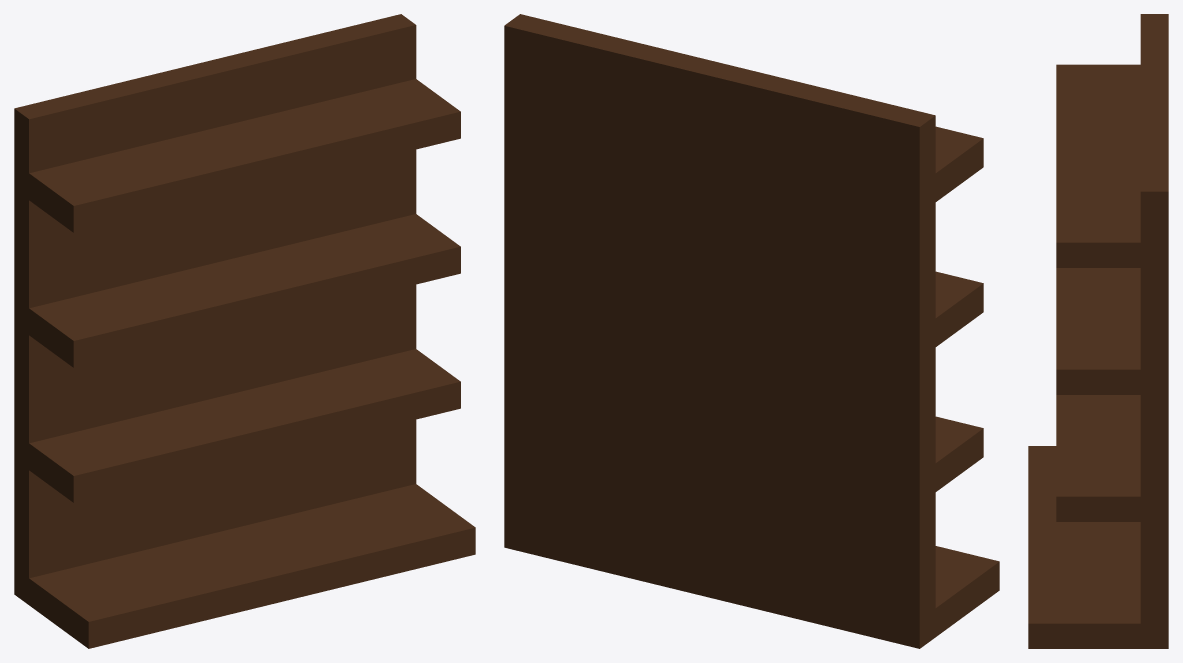
The model's file is wooden-shelf.glb.
3 views of the same model, side by side, from view 1: azimuth 30°, elevation 25°; view 2: azimuth 150°, elevation 25°; view 3: azimuth 270°, elevation 25° (orthographic). The views are drawn at different scales.
Parts seen in each view (by area): view 1: Untitled; view 2: Untitled; view 3: Untitled.
Boxes of the visible parts, <box> form: Untitled: <box>14,14,475,648</box>; Untitled: <box>504,14,999,648</box>; Untitled: <box>1028,14,1168,648</box>.
Size of the model in its own units: 1.5 by 1.8 by 0.5.
Materials: 1 (1 with a texture image).
